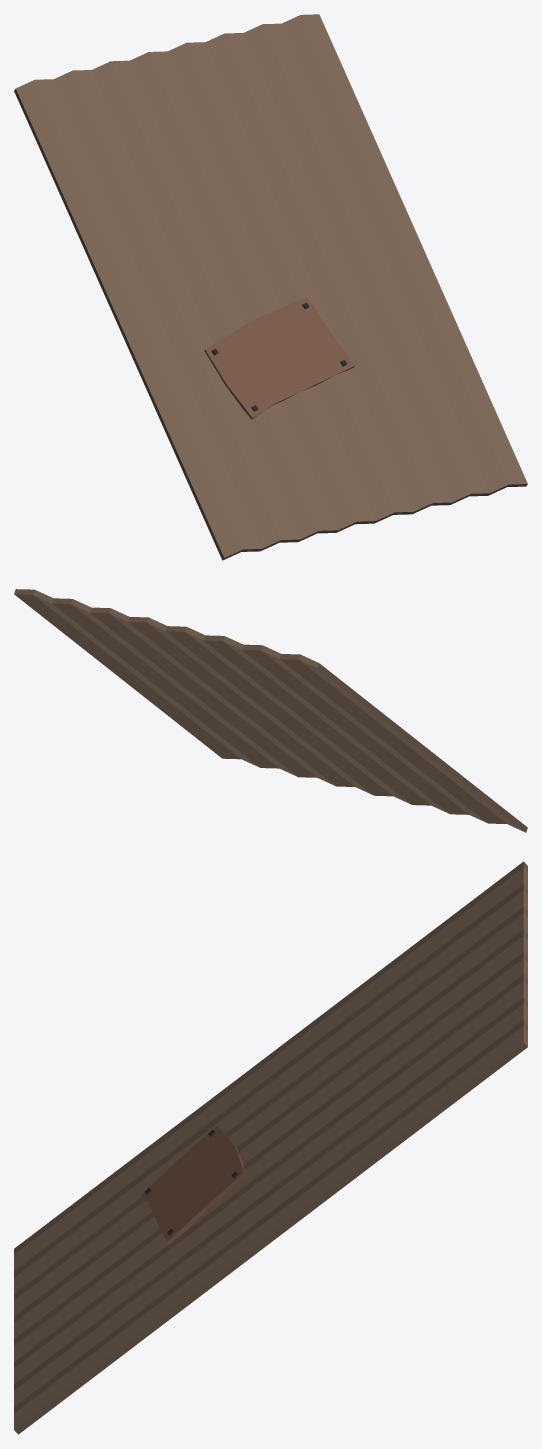
File: Roof_01_2.fbx
3 views of the same model, one above another, from view 1: azimuth 30°, elevation 25°; view 2: azimuth 150°, elevation 25°; view 3: azimuth 270°, elevation 25° (orthographic). The views are drawn at different scales.
Parts seen in each view (by area): view 1: Roof_01_2_LOD0; view 2: Roof_01_2_LOD0; view 3: Roof_01_2_LOD0.
Boxes of the visible parts, x1=… form: Roof_01_2_LOD0: x1=14, y1=14, x2=527, y2=560; Roof_01_2_LOD0: x1=14, y1=589, x2=527, y2=832; Roof_01_2_LOD0: x1=14, y1=861, x2=527, y2=1434.
Size of what is drawn, in the model's own units: 500 by 511 by 600.
